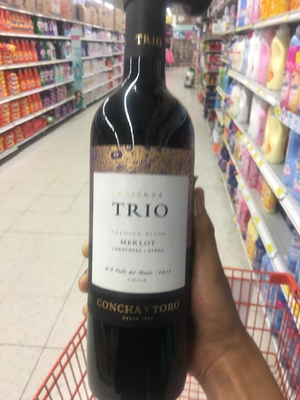trio merlot: (77, 25, 199, 400)
